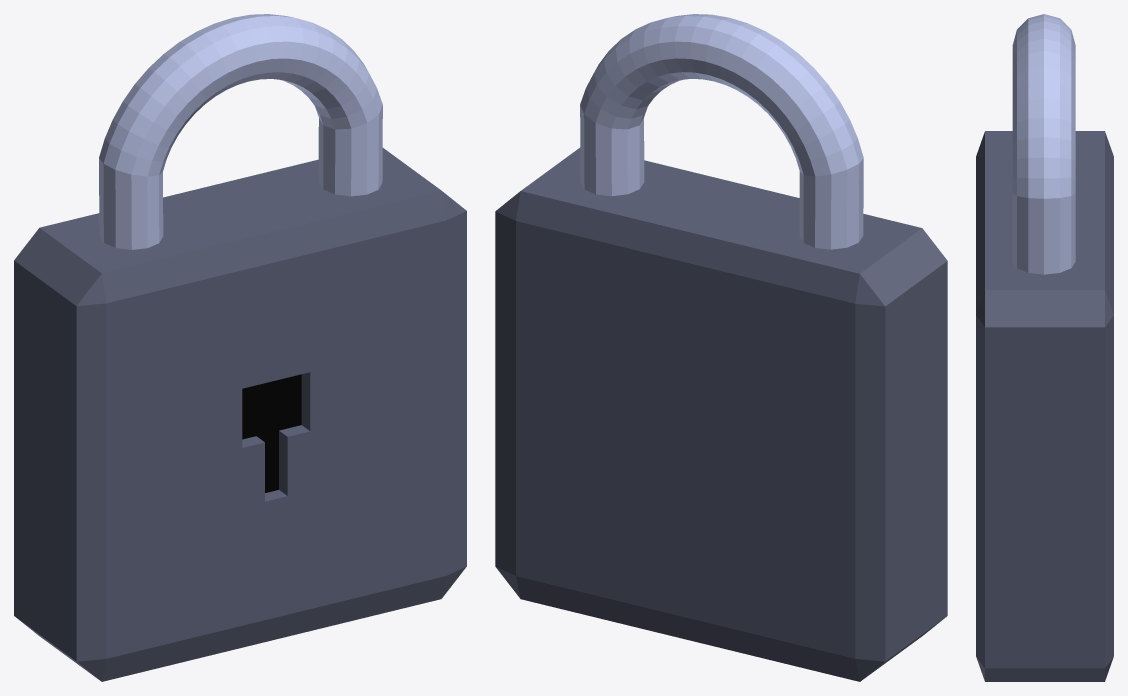
The model's file is padlock.glb.
3 views of the same model, side by side, from view 1: azimuth 30°, elevation 25°; view 2: azimuth 150°, elevation 25°; view 3: azimuth 270°, elevation 25° (orthographic). The views are drawn at different scales.
Parts seen in each view (by area): view 1: Cube, Torus; view 2: Cube, Torus; view 3: Cube, Torus.
Boxes of the visible parts, x1=… form: Cube: x1=14, y1=148, x2=466, y2=681; Torus: x1=99, y1=14, x2=382, y2=249; Cube: x1=495, y1=147, x2=947, y2=681; Torus: x1=580, y1=14, x2=863, y2=249; Cube: x1=976, y1=131, x2=1113, y2=681; Torus: x1=1012, y1=14, x2=1075, y2=274.
Bounding box in the file's own units: 2 × 2.93 × 0.6373.
